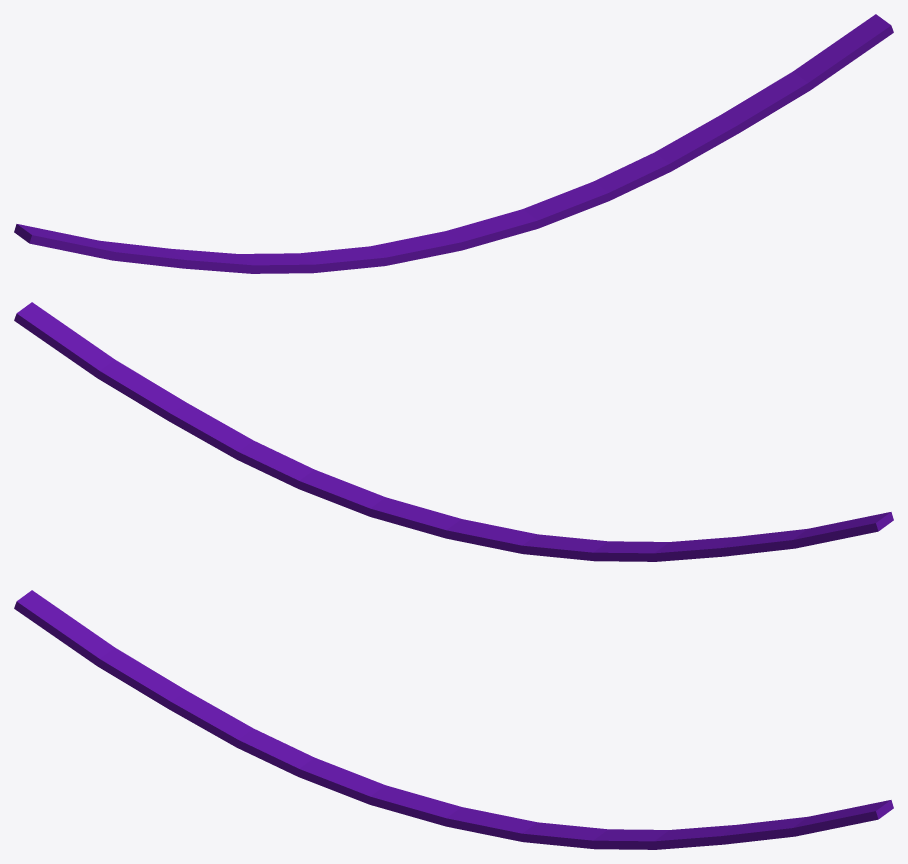
Rendered from Tape_1_chunks.fbx.
3 views of the same model, one above another, from view 1: azimuth 30°, elevation 25°; view 2: azimuth 150°, elevation 25°; view 3: azimuth 330°, elevation 25° (orthographic).
Parts seen in each view (by area): view 1: Tape_1_0, Tape_1_3, Tape_1_1; view 2: Tape_1_0, Tape_1_3, Tape_1_1, Tape_1_2; view 3: Tape_1_0, Tape_1_3, Tape_1_1.
Part boxes in pixels (x1,y1,x2,y2): Tape_1_0: (483,14,893,241); Tape_1_3: (14,224,295,273); Tape_1_1: (273,224,491,273); Tape_1_0: (14,302,437,517); Tape_1_3: (611,512,893,561); Tape_1_1: (416,512,633,561); Tape_1_2: (372,509,423,529); Tape_1_0: (470,800,893,849); Tape_1_3: (14,590,296,759); Tape_1_1: (257,749,488,832).
Bounding box in the file's own units: 776 × 103 × 24.08.
